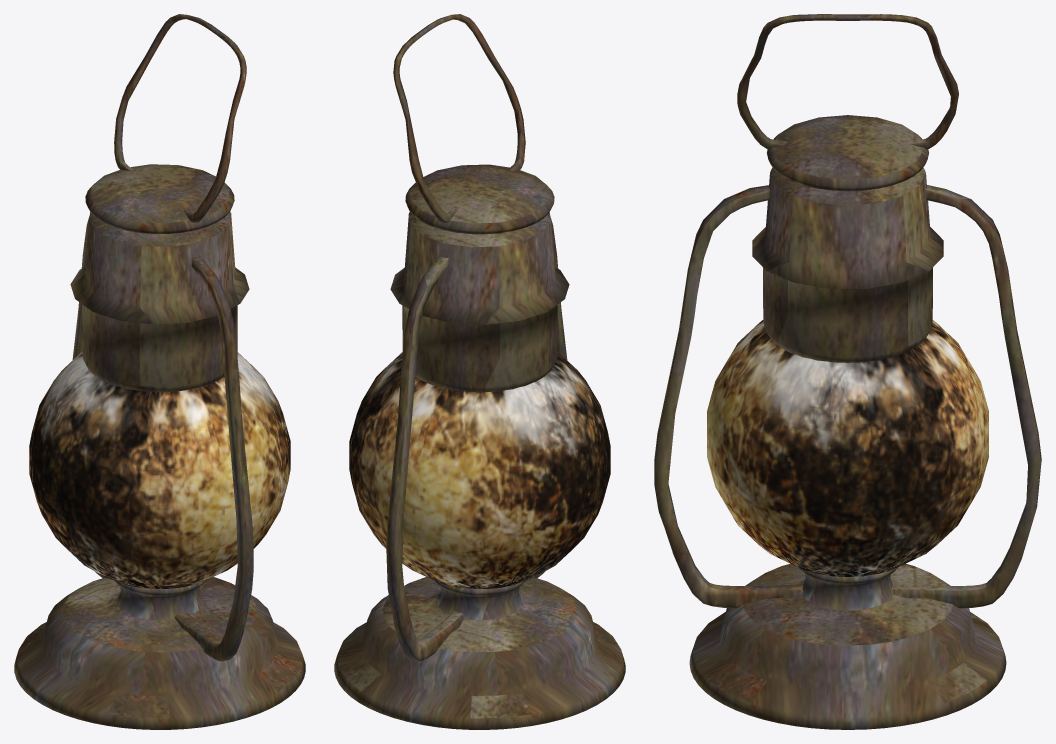
Rendered from Oil_Lamp.FBX.
3 renders of one model, left to right at view 1: azimuth 30°, elevation 25°; view 2: azimuth 150°, elevation 25°; view 3: azimuth 270°, elevation 25°, orthographic. The views are drawn at different scales.
Parts seen in each view (by area): view 1: Lamp, bulb; view 2: Lamp, bulb; view 3: Lamp, bulb.
Part boxes in pixels (x1,y1,x2,y2): Lamp: (14,14,305,729); bulb: (29,352,290,588); Lamp: (334,14,625,729); bulb: (349,352,610,589); Lamp: (654,14,1041,729); bulb: (707,320,988,576).
Size of the model in its own units: 67.47 by 162 by 82.48.
Materials: 2 (2 with a texture image).
